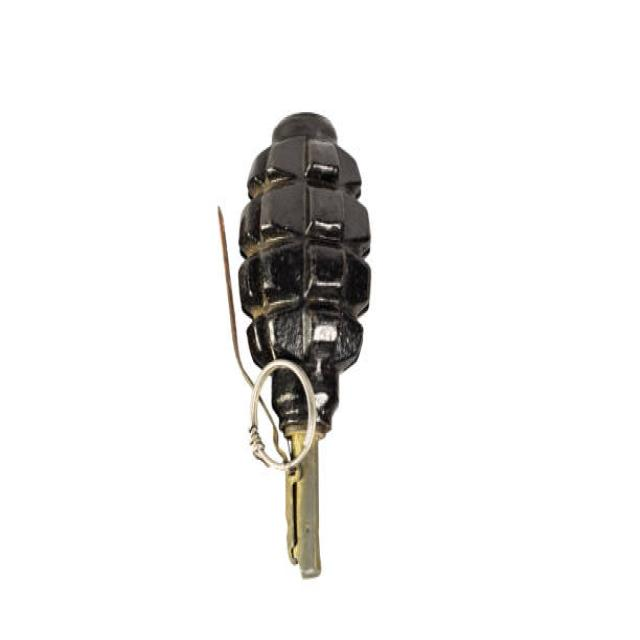grenade: (215, 111, 375, 584)
